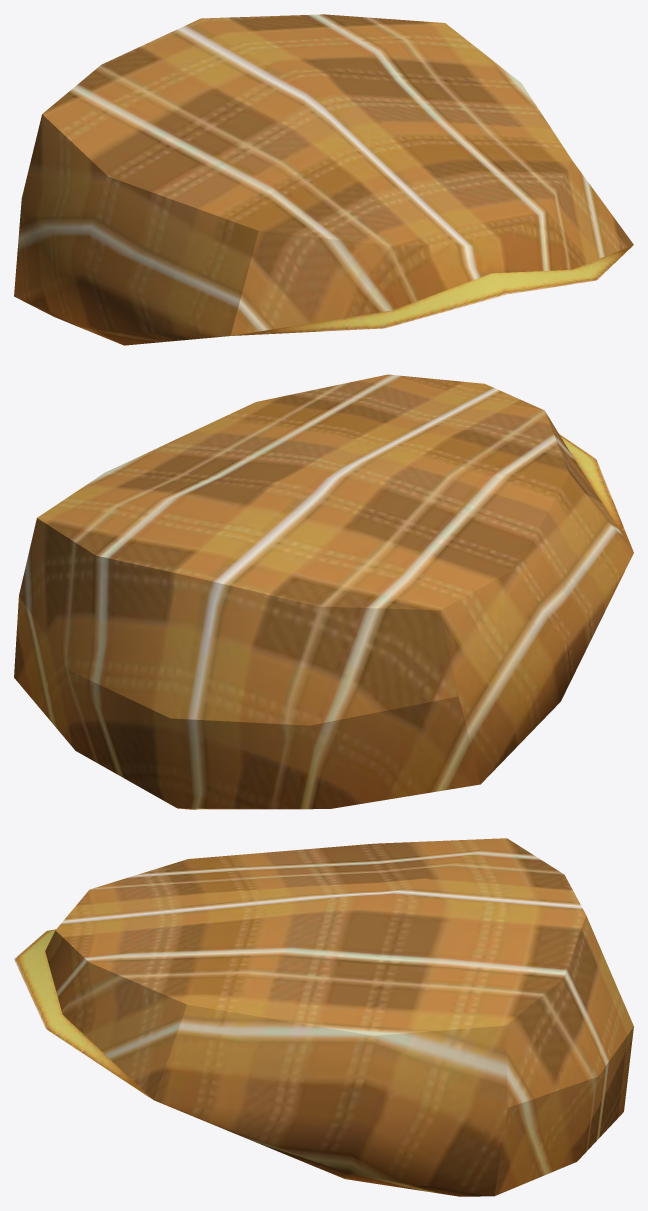
The model's file is helm0064.fbx.
The picture shows the model from 3 angles, top to bottom: view 1: azimuth 30°, elevation 25°; view 2: azimuth 150°, elevation 25°; view 3: azimuth 270°, elevation 25°; orthographic projection. The views are drawn at different scales.
Parts seen in each view (by area): view 1: helm0064_m; view 2: helm0064_m; view 3: helm0064_m.
Boxes of the visible parts, left/top/right/bottom form: helm0064_m: left=14, top=14, right=633, bottom=345; helm0064_m: left=14, top=374, right=633, bottom=809; helm0064_m: left=14, top=838, right=633, bottom=1196.
Bounding box in the file's own units: 0.3101 × 0.1486 × 0.3733.
